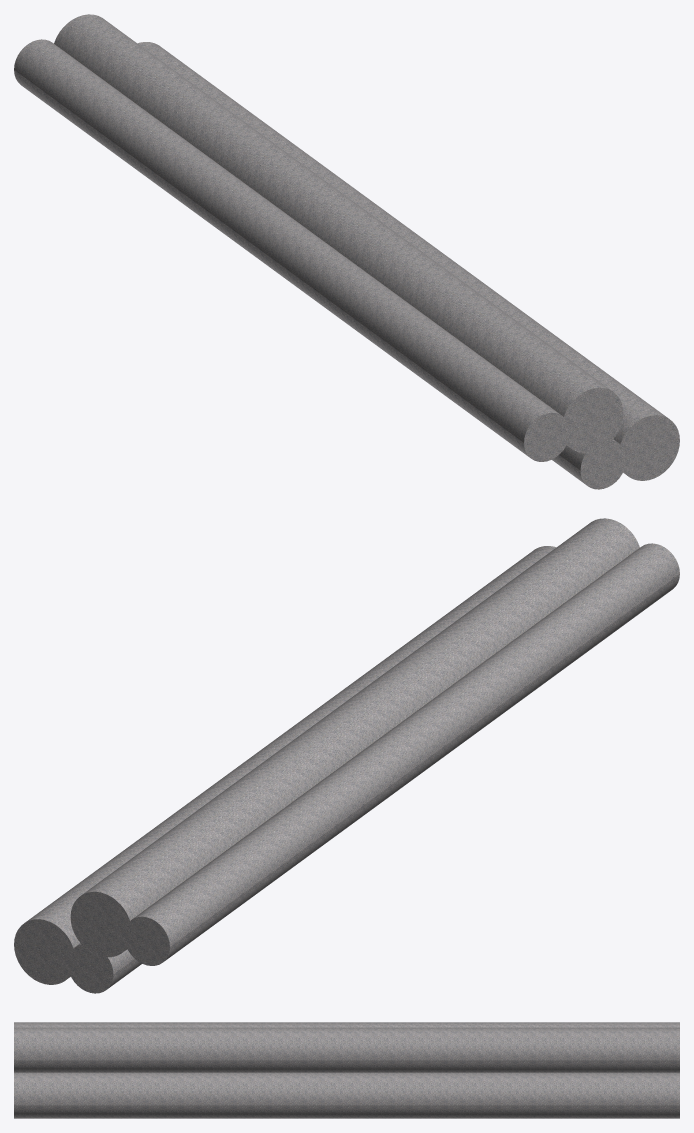
The picture shows the model from 3 angles, top to bottom: view 1: azimuth 30°, elevation 25°; view 2: azimuth 150°, elevation 25°; view 3: azimuth 270°, elevation 25°; orthographic projection. The views are drawn at different scales.
Visible parts, largest first — view 1: 0_2_0_3_0_2_0_0_2; view 2: 0_2_0_3_0_2_0_0_2; view 3: 0_2_0_3_0_2_0_0_2.
Boxes of the visible parts, x1,y1,x2,y2 form: 0_2_0_3_0_2_0_0_2: (14,14,679,489); 0_2_0_3_0_2_0_0_2: (14,518,679,993); 0_2_0_3_0_2_0_0_2: (14,1022,679,1118).
Bounding box in the file's own units: 2.04 × 1.31 × 11.53.
Materials: 4 (4 with a texture image).
